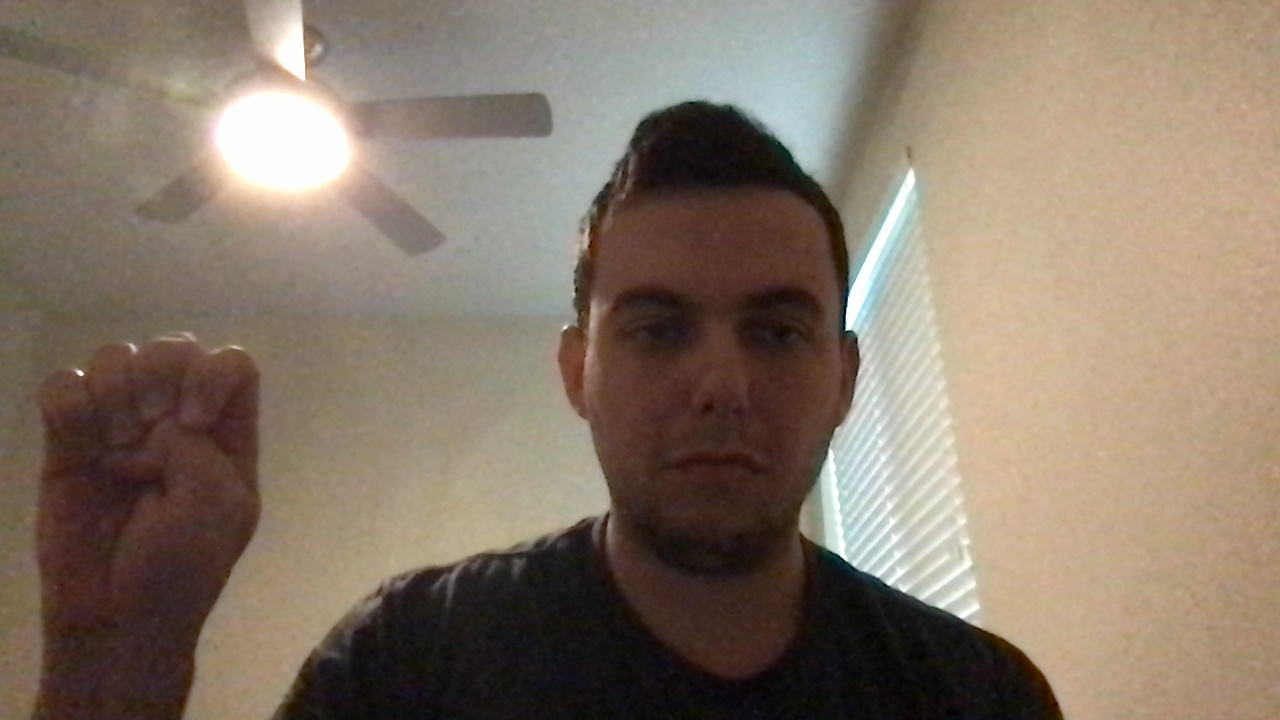e: (1, 317, 281, 648)
